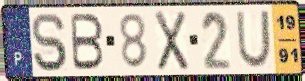2: (199, 9, 235, 71)
8: (118, 12, 149, 70)
B: (69, 12, 106, 72)
S: (30, 11, 69, 74)
U: (235, 9, 273, 70)
X: (153, 9, 190, 73)
